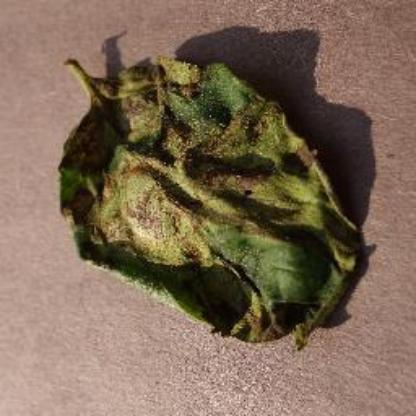Late-Blight: (31, 38, 375, 368)
